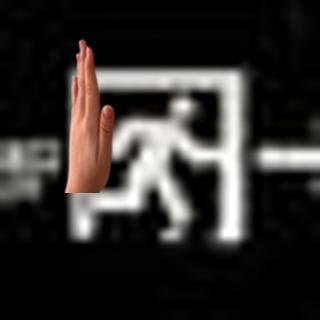Right: (60, 35, 116, 185)
